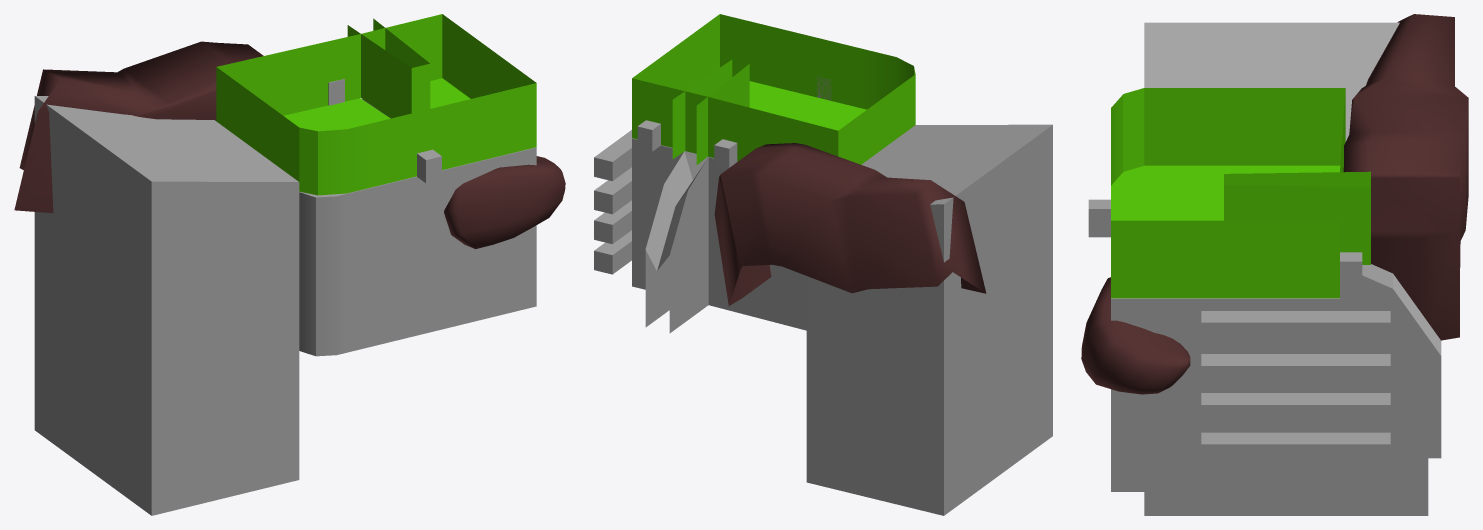
The model's file is DressingSala_N1_C.fbx.
The picture shows the model from 3 angles, left to right: view 1: azimuth 30°, elevation 25°; view 2: azimuth 150°, elevation 25°; view 3: azimuth 270°, elevation 25°; orthographic projection. The views are drawn at different scales.
Parts seen in each view (by area): view 1: Concreto5, PlayerNoFall, Escenario, Carne1, Carne2, NoFallBeetwen, Ground, ElevadorEntrada6; view 2: Concreto5, Carne1, PlayerNoFall, Escenario, NoFallBeetwen, Ground, Concreto1, Concreto2, Concreto4, Concreto3, ElevadorEntrada5, ElevadorEntrada4; view 3: PlayerNoFall, Escenario, Carne1, Concreto5, NoFallBeetwen, Concreto4, Ground, Concreto3, Concreto2, Concreto1, Carne2, ElevadorEntrada6 (+1 smaller).
Boxes of the visible parts, box(x1,y1,x2,y2) form: Concreto5: box(34, 96, 299, 515); PlayerNoFall: box(216, 14, 536, 195); Escenario: box(299, 99, 536, 356); Carne1: box(14, 41, 263, 213); Carne2: box(444, 156, 565, 248); NoFallBeetwen: box(347, 18, 430, 118); Ground: box(283, 78, 470, 131); ElevadorEntrada6: box(417, 149, 441, 183); Concreto5: box(806, 124, 1052, 515); Carne1: box(714, 143, 986, 305); PlayerNoFall: box(632, 14, 915, 164); Escenario: box(632, 138, 806, 333); NoFallBeetwen: box(672, 59, 749, 164); Ground: box(749, 81, 866, 130); Concreto1: box(594, 130, 631, 181); Concreto2: box(594, 167, 631, 214); Concreto4: box(594, 230, 631, 274); Concreto3: box(594, 200, 631, 244); ElevadorEntrada5: box(637, 120, 660, 151); ElevadorEntrada4: box(714, 139, 737, 169); PlayerNoFall: box(1111, 88, 1345, 298); Escenario: box(1111, 264, 1441, 491); Carne1: box(1343, 14, 1468, 340); Concreto5: box(1144, 22, 1428, 515); NoFallBeetwen: box(1224, 171, 1370, 264); Concreto4: box(1201, 432, 1390, 469); Ground: box(1111, 165, 1340, 220); Concreto3: box(1201, 393, 1390, 429); Concreto2: box(1201, 354, 1390, 390); Concreto1: box(1201, 311, 1390, 347); Carne2: box(1081, 277, 1190, 394); ElevadorEntrada6: box(1088, 199, 1110, 237).
Bounding box in the file's own units: 97.11 × 74.1 × 60.74.
